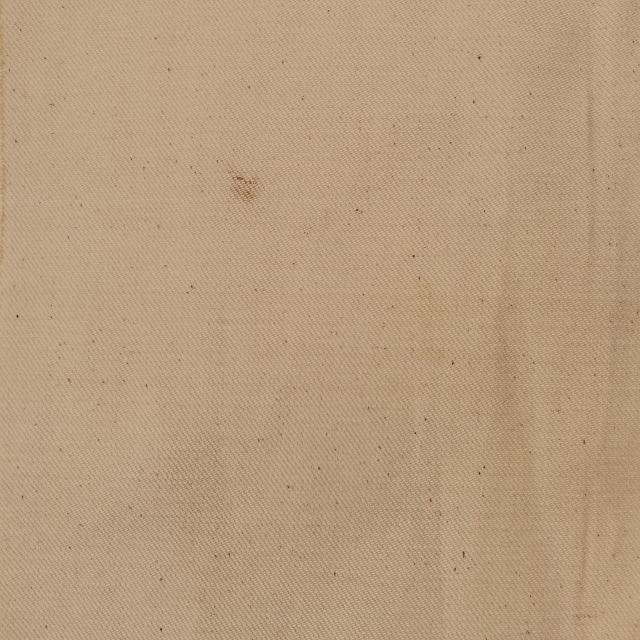taaaches: (222, 151, 266, 217)
